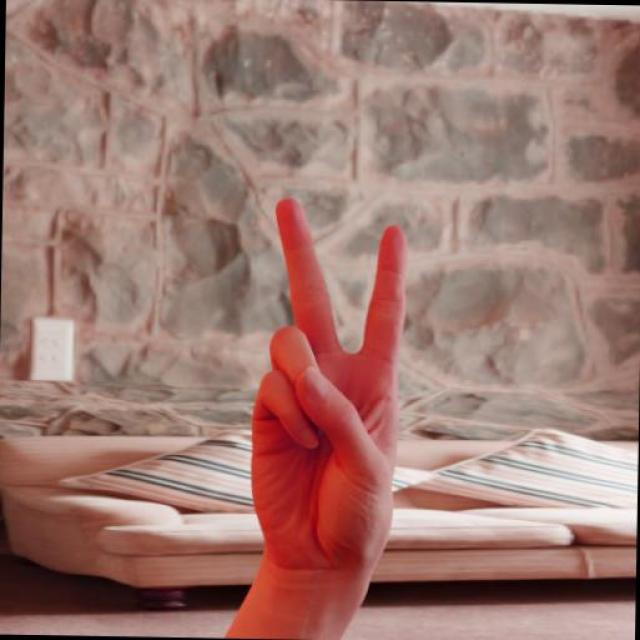V: (239, 197, 412, 574)
